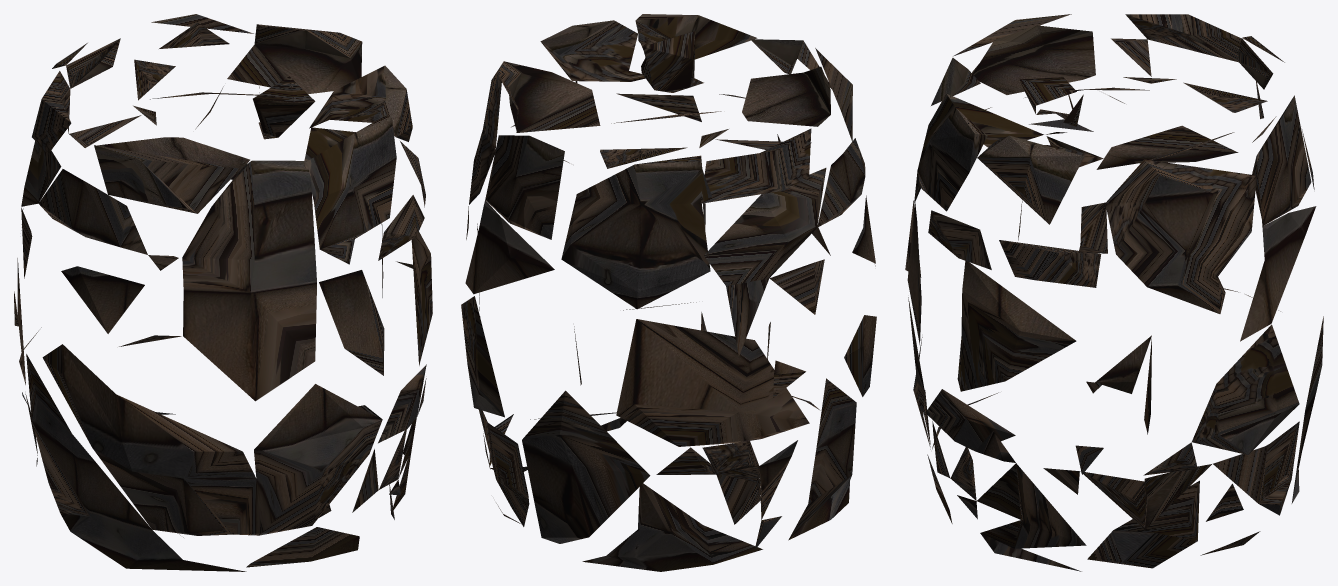
File: prp_barrel_oil_a_LOD2.glb
3 views of the same model, side by side, from view 1: azimuth 30°, elevation 25°; view 2: azimuth 150°, elevation 25°; view 3: azimuth 270°, elevation 25° (orthographic).
Visible parts, largest first — view 1: geometry_0; view 2: geometry_0; view 3: geometry_0.
Boxes of the visible parts, x1,y1,x2,y2 form: geometry_0: [14, 14, 432, 571]; geometry_0: [461, 14, 876, 571]; geometry_0: [905, 14, 1323, 571].
Size of the model in its own units: 0.8809 by 0.9997 by 0.8784.
Materials: 1 (1 with a texture image).
